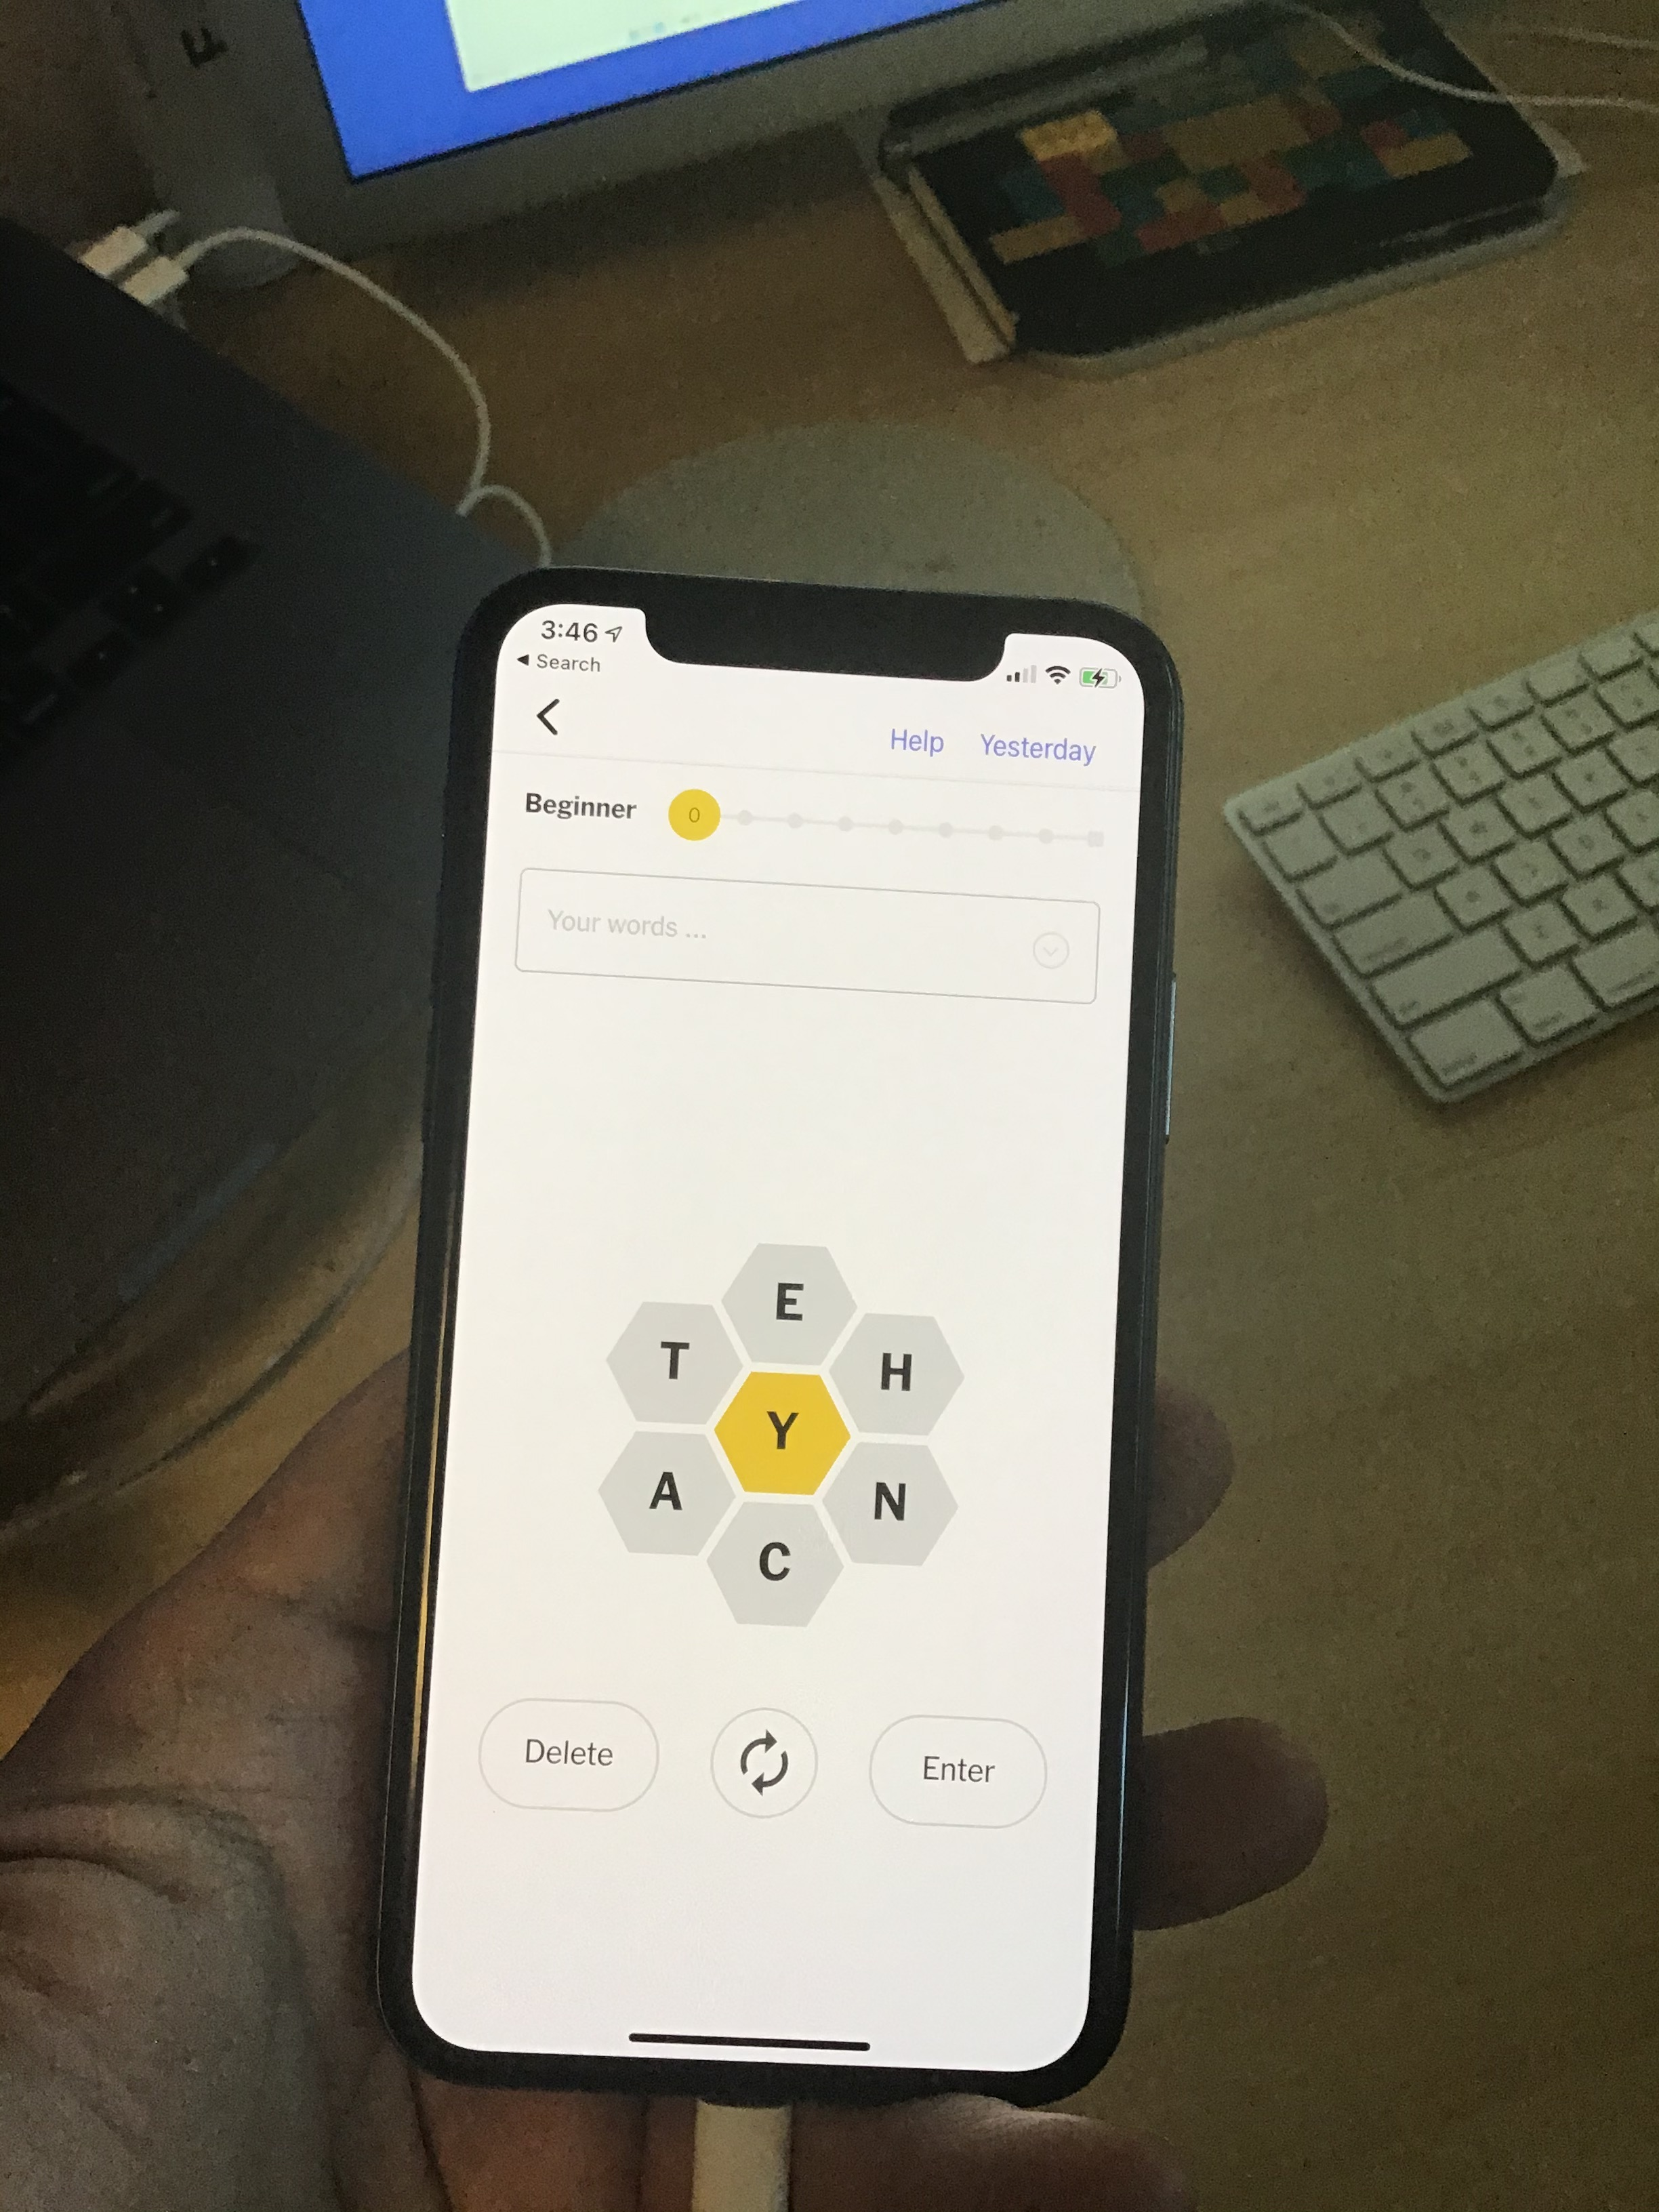Board: (540, 1188, 1009, 1665)
